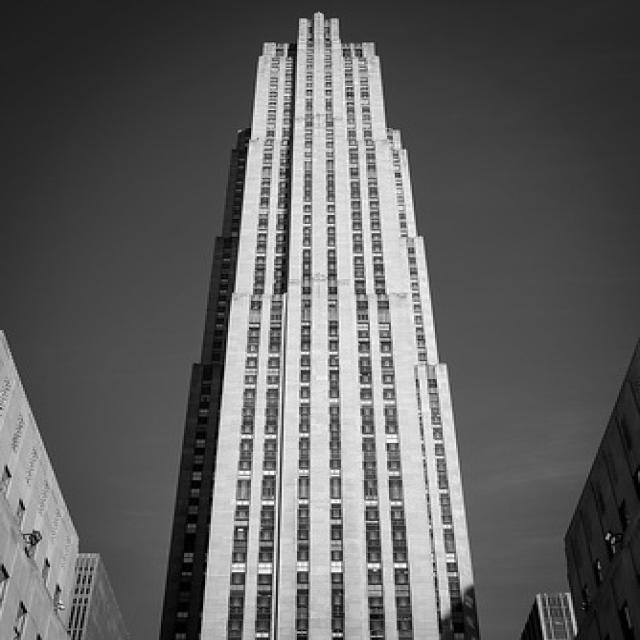building: (151, 7, 487, 638)
